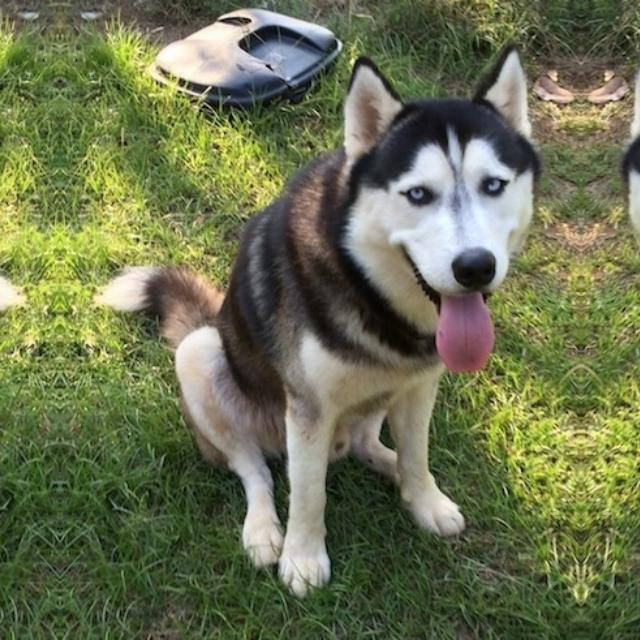dog: (152, 89, 580, 576), (580, 88, 640, 575)
